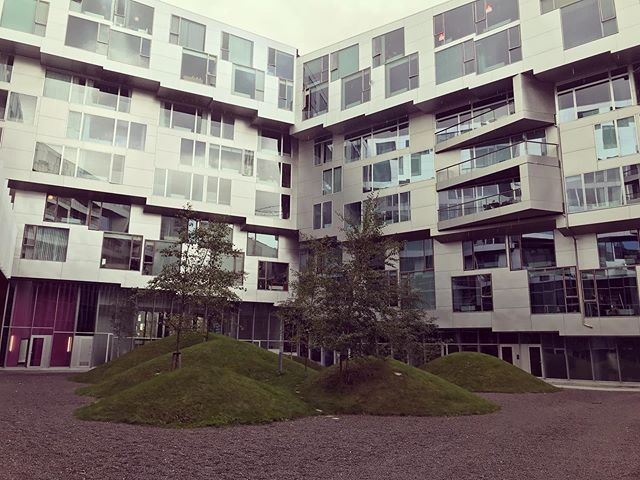building: (10, 1, 640, 356)
tree: (287, 214, 419, 384), (161, 207, 237, 365)
